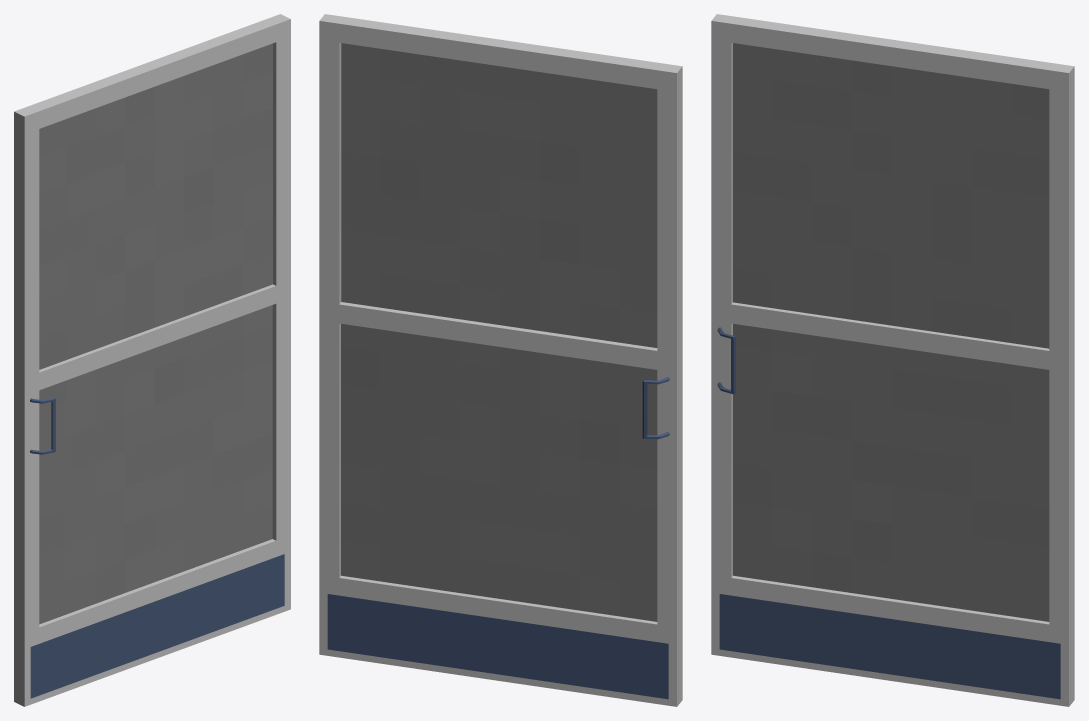
File: SW_corridor__R_lobby_R_Aula_Ovi_2_Ikkunaav_001.FBX
The picture shows the model from 3 angles, left to right: view 1: azimuth 30°, elevation 25°; view 2: azimuth 150°, elevation 25°; view 3: azimuth 330°, elevation 25°; orthographic projection. The views are drawn at different scales.
Visible parts, largest first — view 1: SW_corridor__R_lobby_R_Aula_Ovi_2_Ikkunaav_001; view 2: SW_corridor__R_lobby_R_Aula_Ovi_2_Ikkunaav_001; view 3: SW_corridor__R_lobby_R_Aula_Ovi_2_Ikkunaav_001.
Part boxes in pixels (bbox=[...]): SW_corridor__R_lobby_R_Aula_Ovi_2_Ikkunaav_001: bbox=[14, 14, 290, 706]; SW_corridor__R_lobby_R_Aula_Ovi_2_Ikkunaav_001: bbox=[319, 14, 682, 706]; SW_corridor__R_lobby_R_Aula_Ovi_2_Ikkunaav_001: bbox=[711, 14, 1074, 706].
Size of the model in its own units: 109 by 28.91 by 204.
